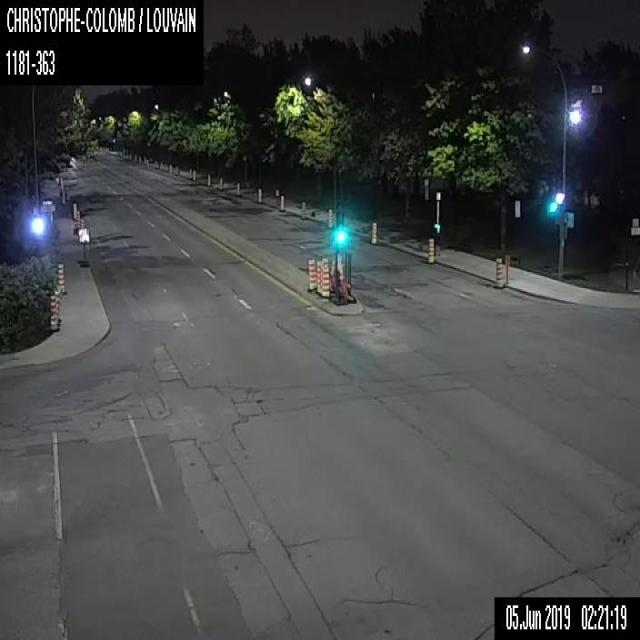construction: (78, 227, 90, 266), (47, 293, 59, 331), (318, 256, 328, 295), (55, 260, 66, 293), (320, 262, 330, 298), (502, 253, 512, 286), (493, 256, 502, 288), (307, 258, 316, 290), (53, 289, 60, 326), (56, 284, 62, 322), (426, 237, 434, 263), (314, 259, 320, 292), (369, 220, 377, 244), (325, 208, 334, 228), (278, 194, 284, 210), (300, 200, 305, 219), (256, 188, 262, 203), (72, 202, 77, 220), (75, 210, 80, 227), (235, 181, 240, 195), (61, 189, 65, 204), (188, 166, 192, 178), (66, 188, 70, 200), (207, 172, 210, 186), (219, 176, 222, 189), (192, 168, 195, 180), (168, 164, 172, 173), (80, 218, 84, 226), (175, 164, 178, 173)
